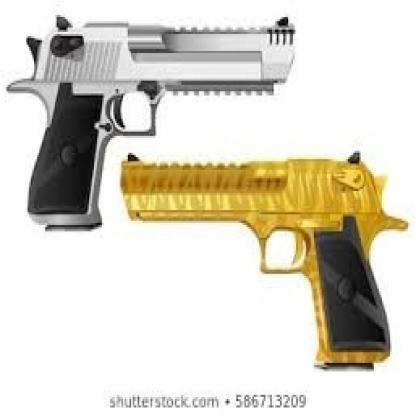Pistol: (116, 145, 408, 370), (5, 11, 296, 230)
